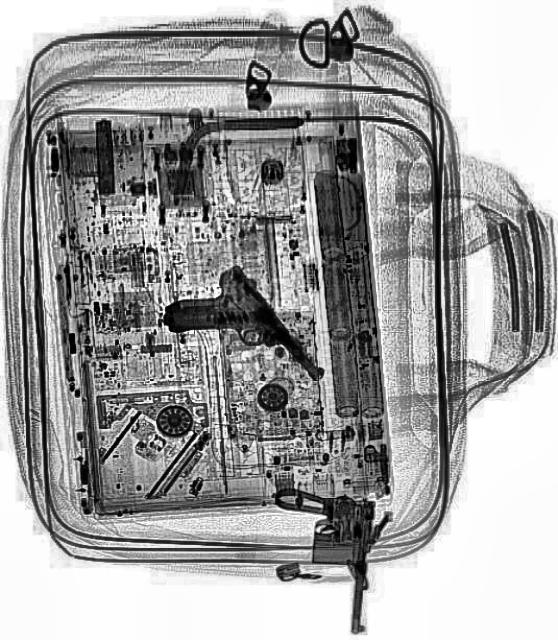Gun: (155, 254, 323, 436), (260, 482, 376, 636)
